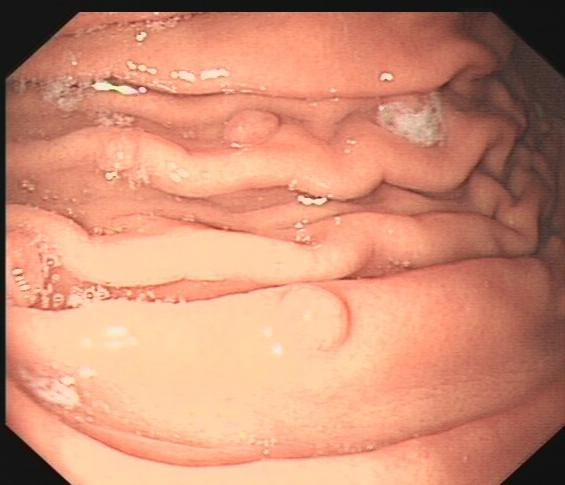Polyp: (269, 280, 352, 354)
